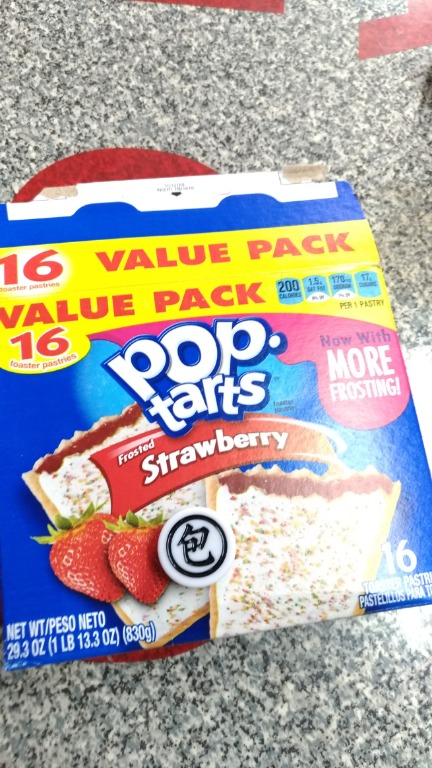b-cannon: (145, 497, 250, 604)
